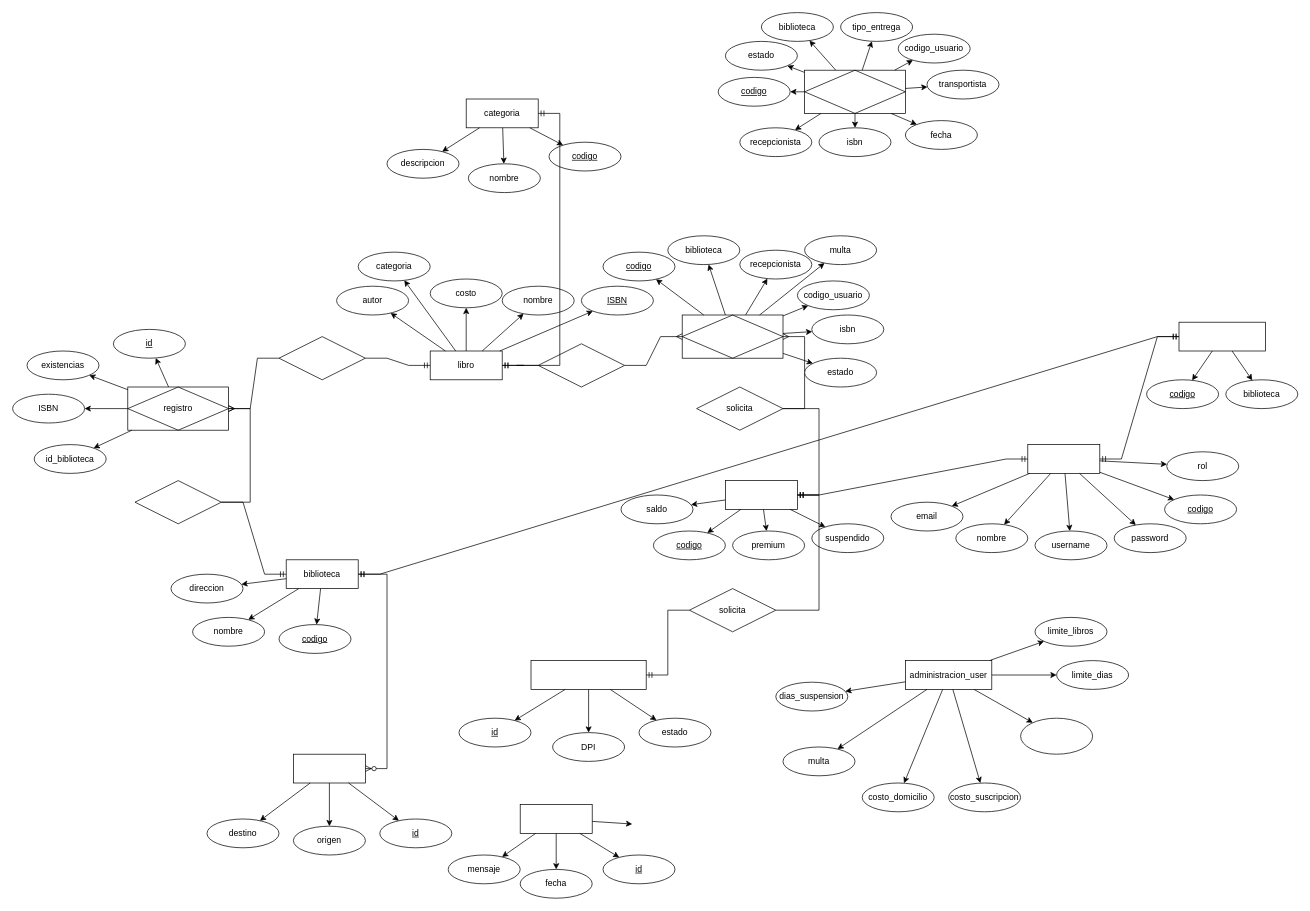
This 1310x911 diagram has some shape labels left out. Here are the shapes that lost their labels. From the top down, the box of each, then its label:
(804, 69, 905, 113): solicitud_prestamo
(681, 314, 783, 358): prestamo
(1178, 321, 1265, 351): usuario_recepcion
(278, 336, 365, 380): pertenece
(537, 343, 625, 387): esta
(1027, 444, 1100, 473): usuario
(134, 480, 221, 524): tiene
(725, 480, 797, 509): usuario_final
(530, 660, 646, 689): revocacion_suspension
(1020, 717, 1093, 754): descuento_domicilio_premium
(293, 753, 365, 783): traslado
(519, 804, 592, 833): notificacion
